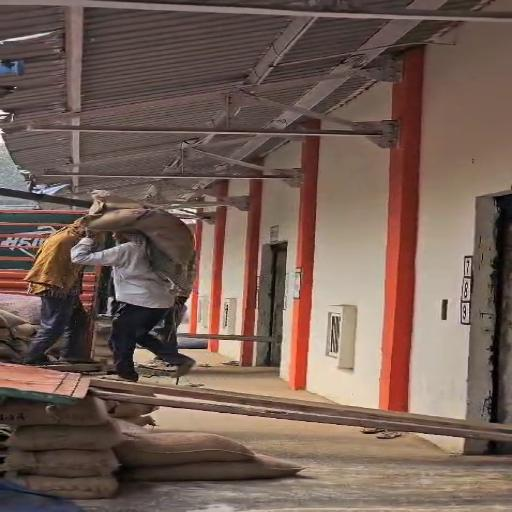bag: (76, 188, 200, 275)
